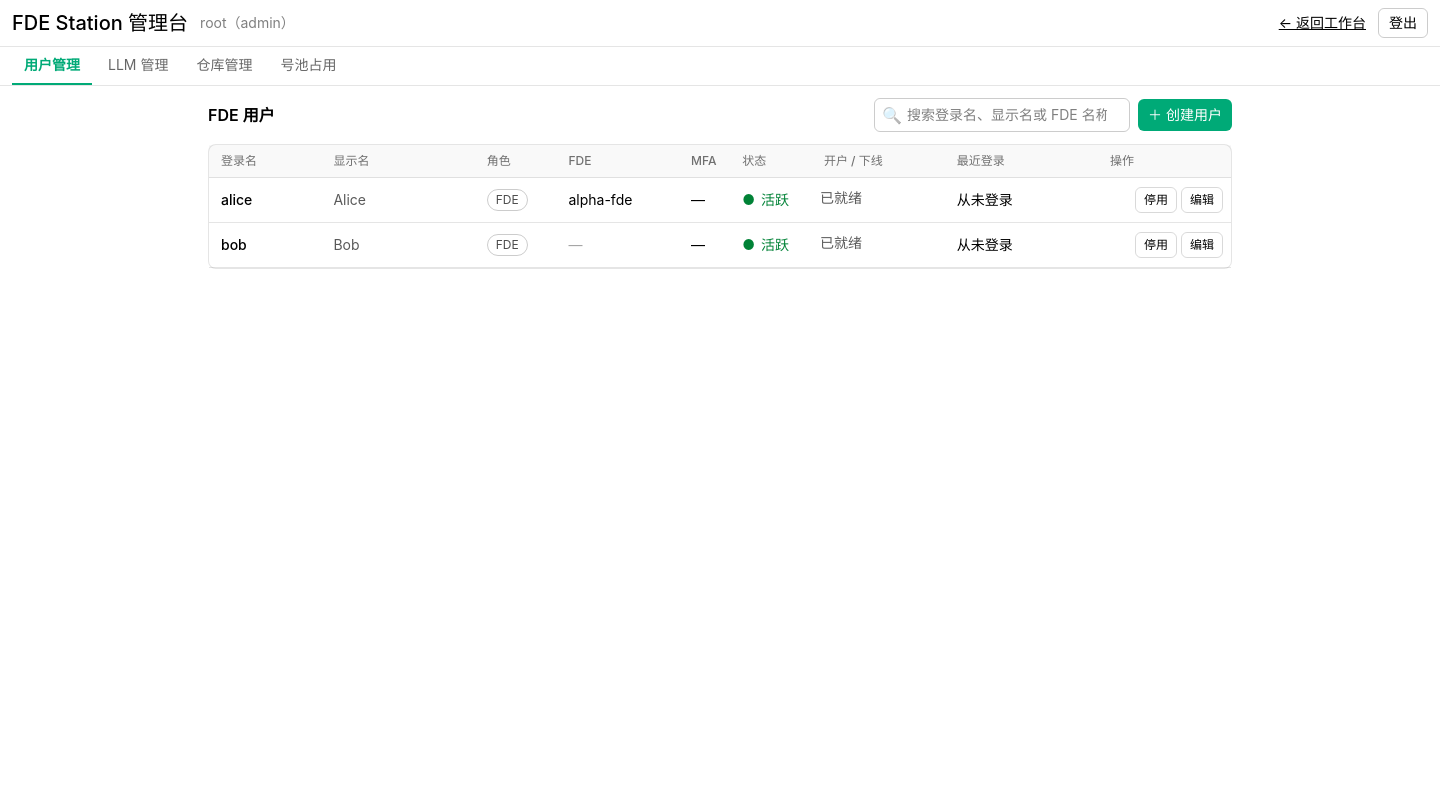
Test: 管理台 · FDE 预览端口面板 › 没有 fde_name 的用户：该 tab 说明「没有预览端口」且一个端口请求都不发
Click the 2nd button with test id "edit-user". click: {"x": 1202, "y": 245}
box: [1181,232,1223,258]
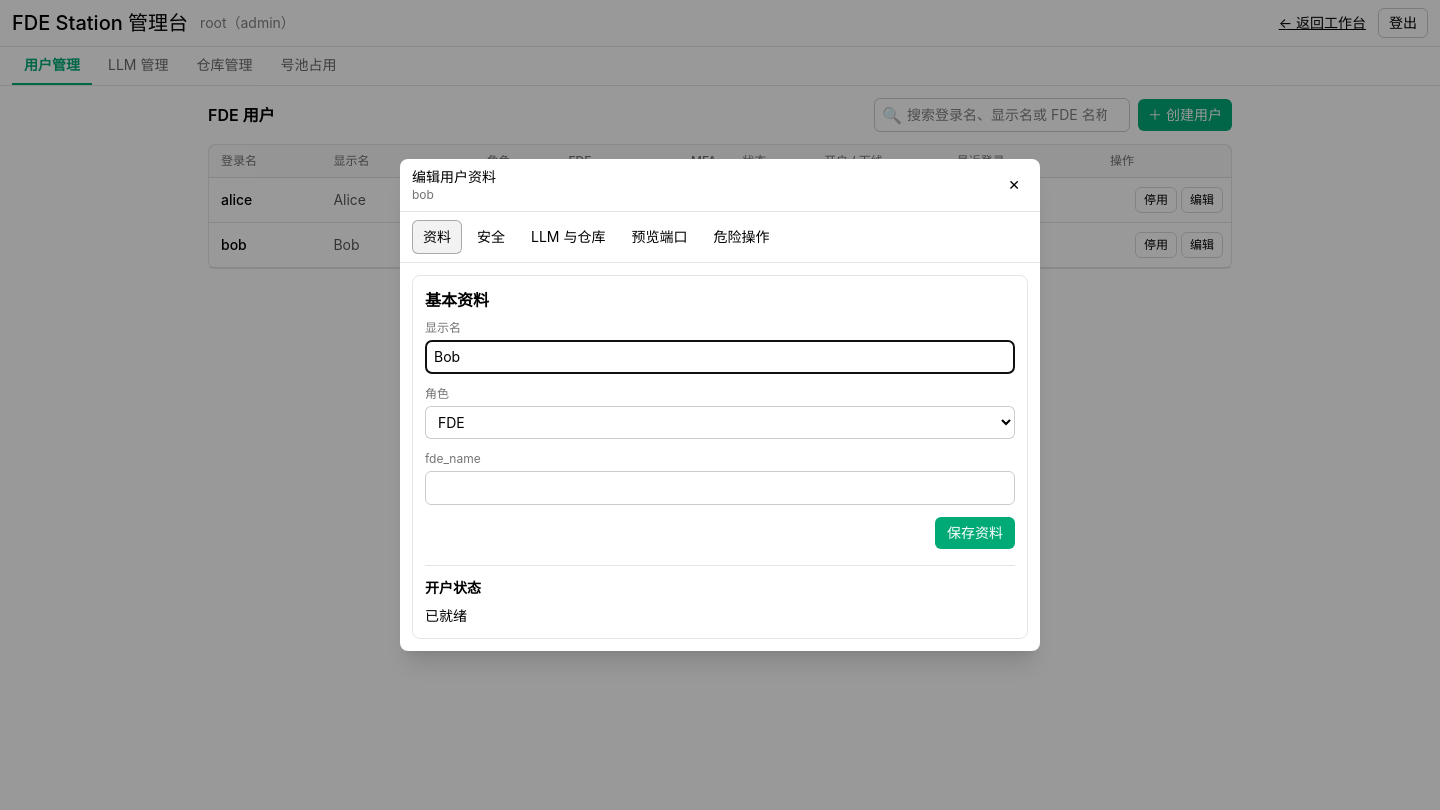
Click the tab with test id "edit-tab-ports". click: {"x": 659, "y": 237}
box: [620,220,698,254]
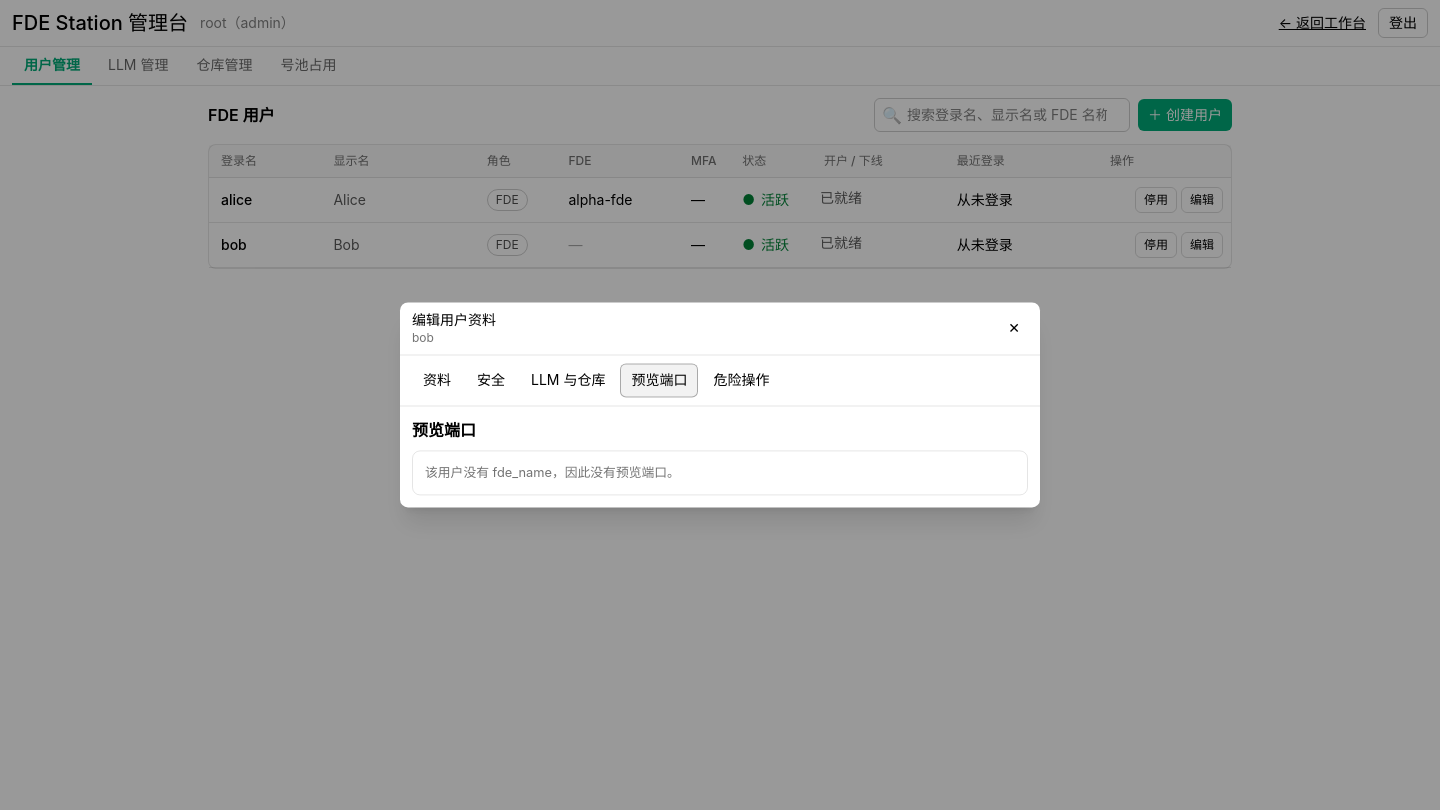
Expected: the panel with test id "edit-panel-ports" shows "该用户没有 fde_name", [425,465,680,480]
